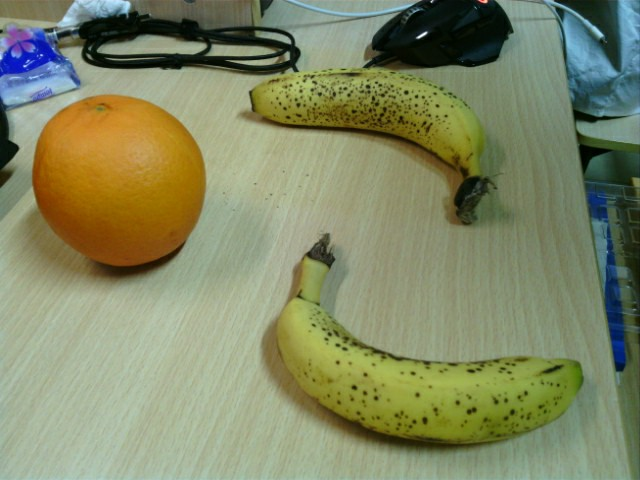normal_banana: (274, 235, 586, 443), (248, 67, 492, 225)
normal_orange: (32, 94, 207, 265)
